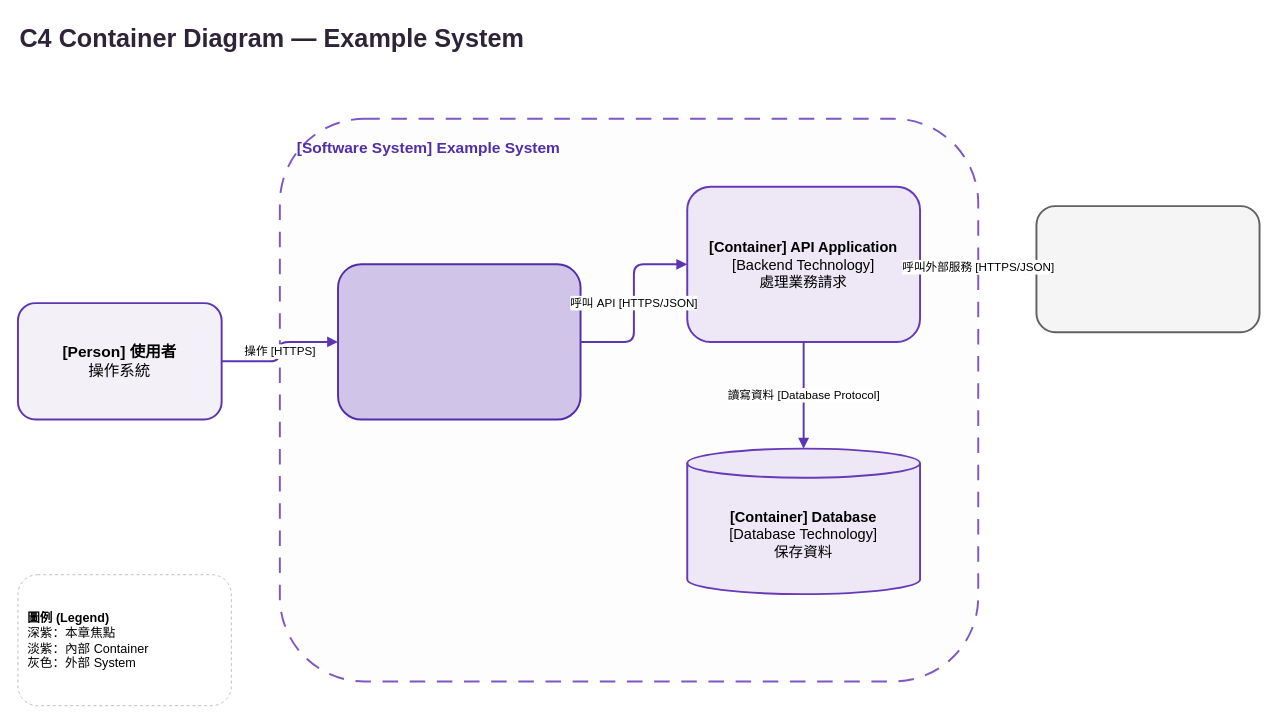
Image size: 1277x723. Some labels were removed from this diagram. The shapes that lost their labels are listed below. From the top down, each one's centre as x and y in pixels, then its label:
the point at 1147,269: [Software System] External Service 提供外部能力
the point at 459,341: [Container] Web Application [Web Technology] 顯示與操作介面
